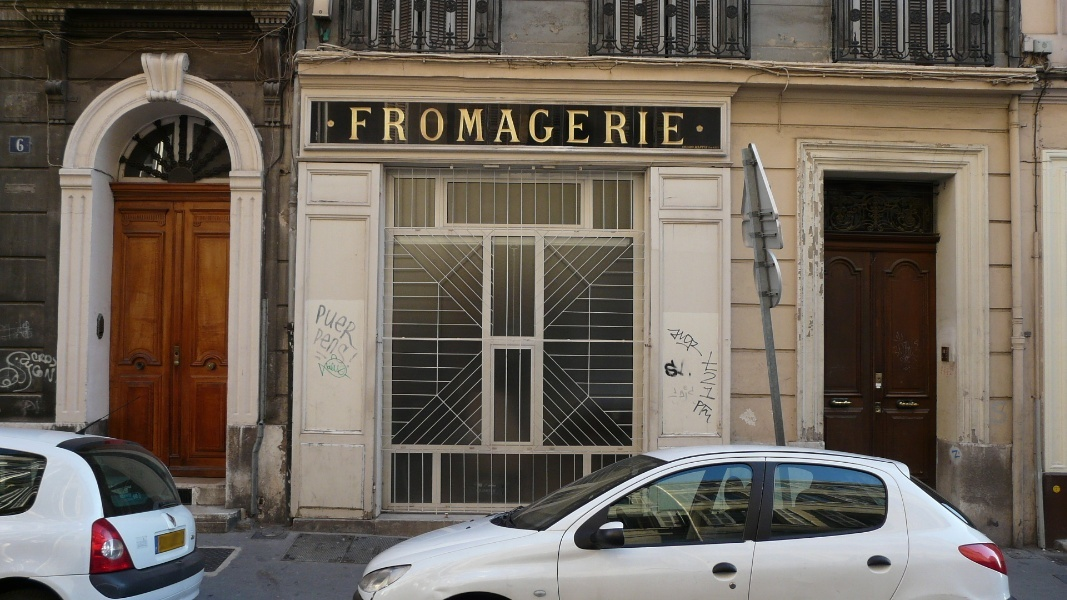text: (705, 350, 721, 430), (321, 296, 336, 350), (337, 296, 352, 350), (353, 296, 368, 350), (17, 348, 32, 398), (33, 348, 48, 398), (353, 102, 368, 149), (369, 102, 384, 149), (385, 102, 400, 149), (401, 102, 416, 149), (417, 102, 432, 149), (433, 102, 448, 149), (449, 102, 464, 149), (465, 102, 480, 149), (481, 102, 496, 149), (497, 102, 512, 149), (513, 102, 528, 149), (529, 102, 544, 149), (545, 102, 560, 149), (561, 102, 576, 149), (577, 102, 592, 149), (593, 102, 608, 149), (609, 102, 624, 149), (625, 102, 640, 149), (641, 102, 656, 149), (657, 102, 672, 149), (673, 102, 688, 149), (2, 348, 16, 398), (321, 324, 336, 368), (337, 324, 352, 368), (49, 348, 62, 398), (698, 350, 704, 430), (673, 325, 688, 356), (17, 129, 32, 158), (161, 528, 176, 556), (689, 325, 702, 356), (344, 102, 352, 149), (7, 129, 16, 158), (177, 528, 186, 556), (316, 324, 320, 368), (317, 296, 320, 350), (667, 325, 672, 356), (33, 129, 38, 158), (156, 528, 160, 556), (689, 102, 691, 149), (353, 324, 354, 368)
